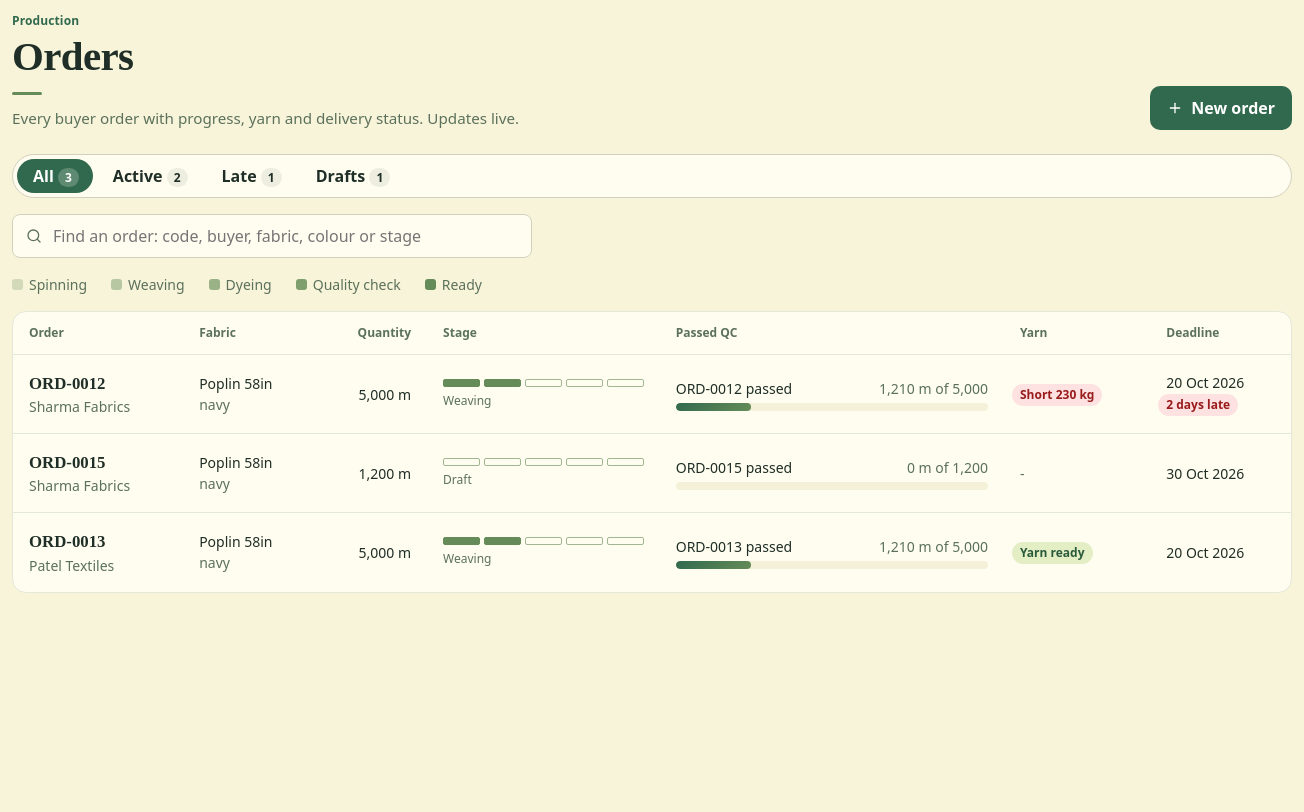
OrdersList › filters to late orders and back to all
Expected: the table is shown, [13,312,1291,592]
Click the button "Late 1". click: [251, 176]
box: [206,159,296,193]
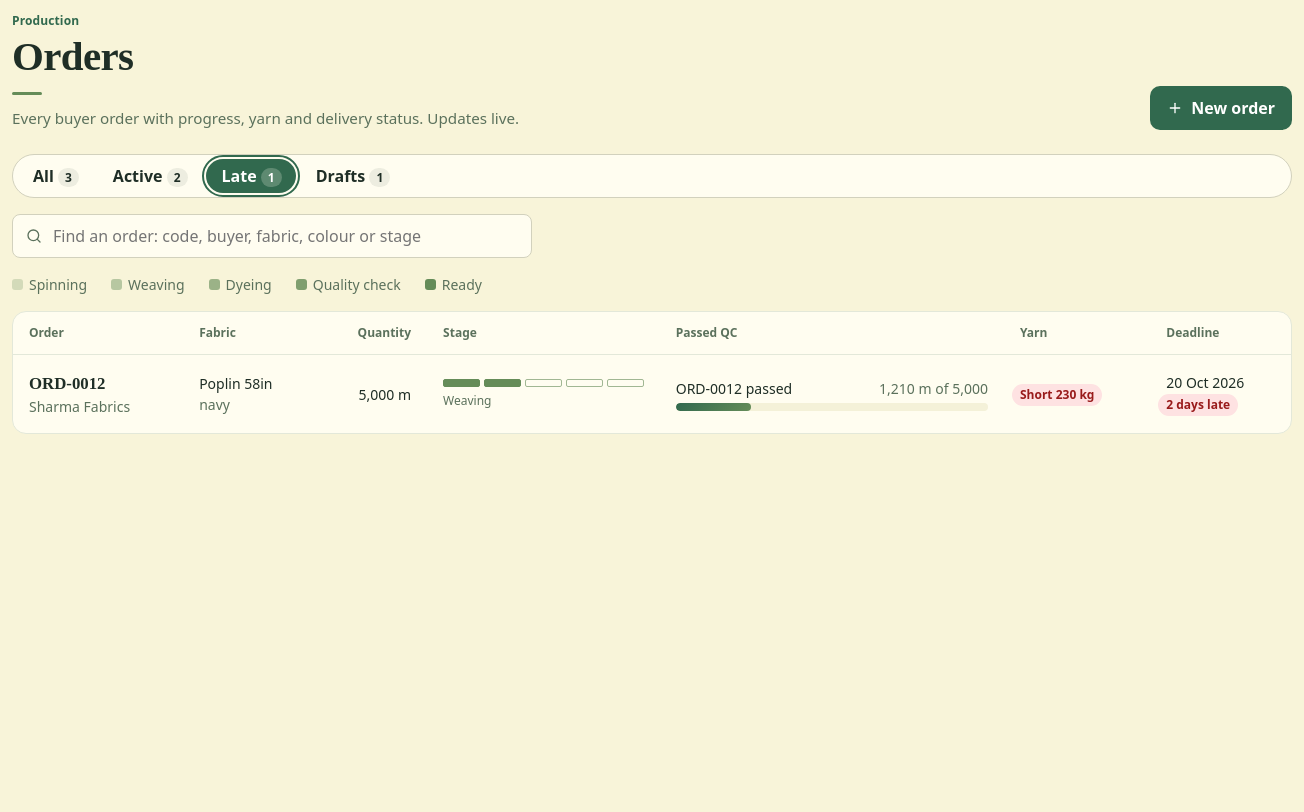
Expected: the row "ORD-0012" is shown, [13,354,1291,433]
Expected: the link "ORD-0013" is gone
Expected: the link "ORD-0015" is gone
Click the button "All 3". click: [55, 176]
box: [17,159,93,193]
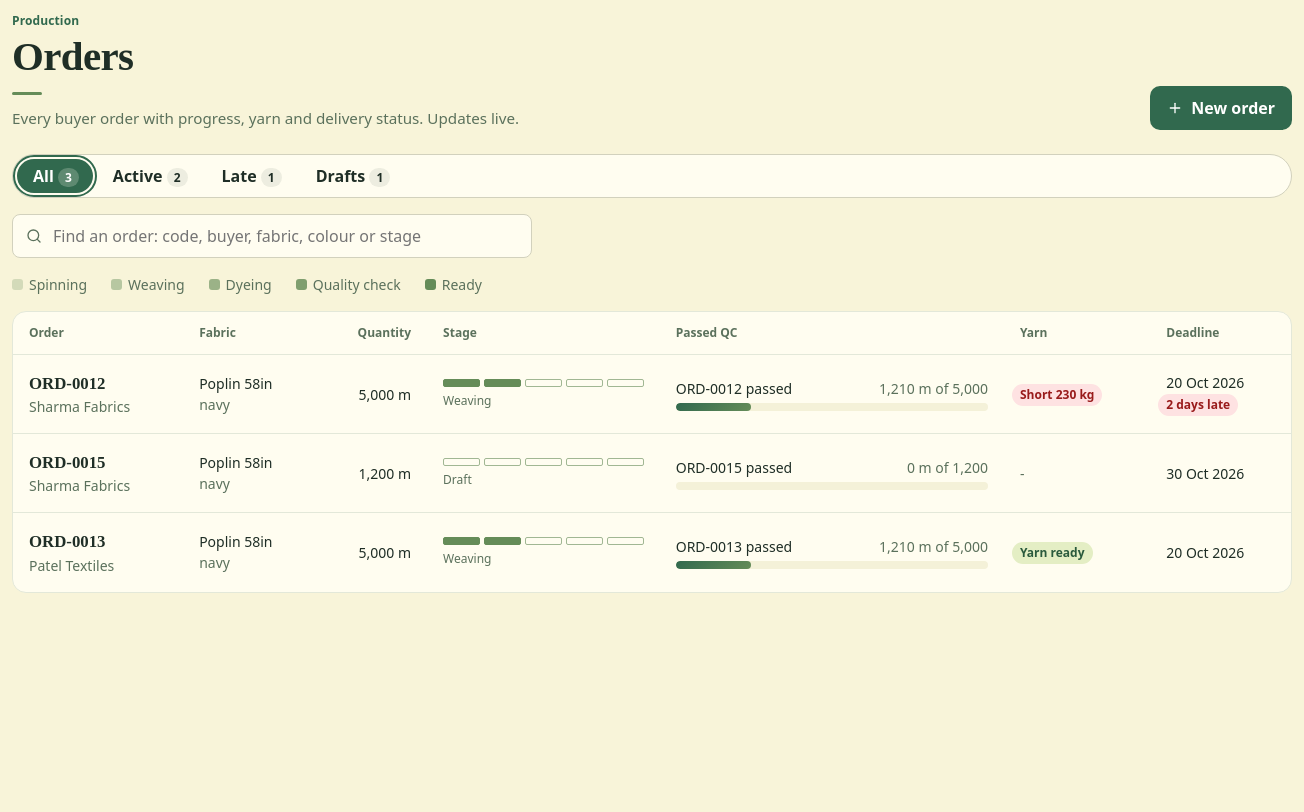
Expected: the row "ORD-0015" is shown, [13,434,1291,513]
